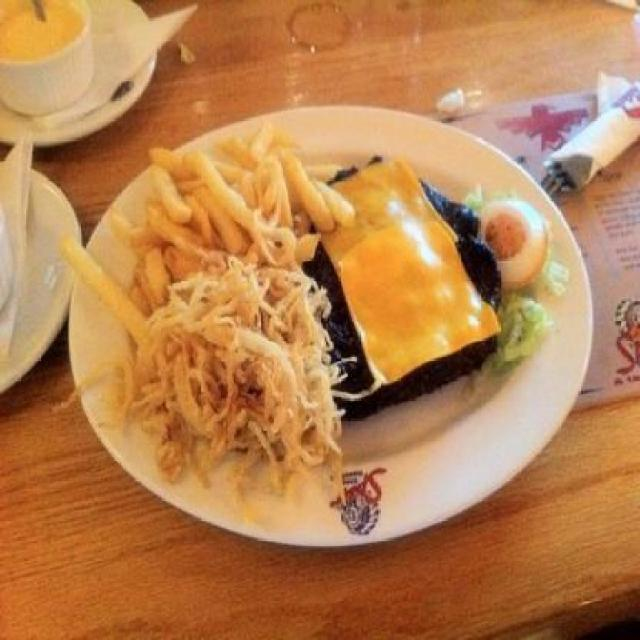French fries: (124, 103, 358, 279)
Steak: (312, 146, 531, 411)
